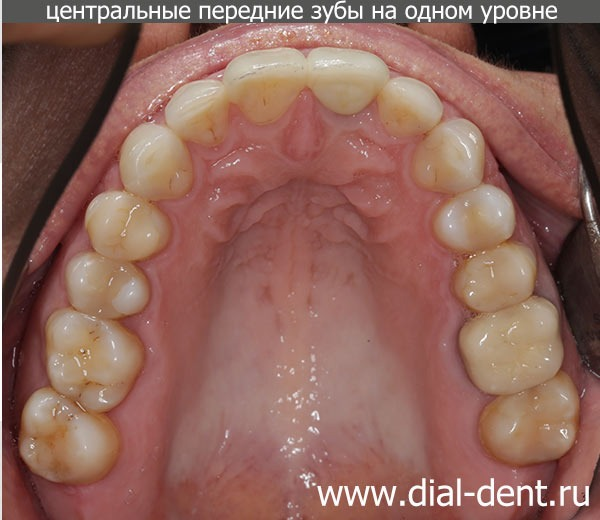UL1BC_healthy: (436, 185, 515, 250)
UL1M_healthy: (460, 297, 560, 393)
UL2BC_healthy: (457, 243, 532, 310)
UL2M_healthy: (484, 378, 576, 461)
ULCI_healthy: (305, 47, 387, 113)
ULC_healthy: (413, 118, 483, 191)
ULLI_healthy: (380, 78, 441, 137)
UR1BC_healthy: (91, 193, 164, 258)
UR1M_decay: (46, 311, 138, 412)
UR2BC_healthy: (68, 257, 144, 316)
UR2M_decay: (20, 389, 117, 482)
URCI_decay: (225, 47, 305, 122)
URC_decay: (120, 125, 191, 199)
URLI_decay: (166, 80, 226, 146)
